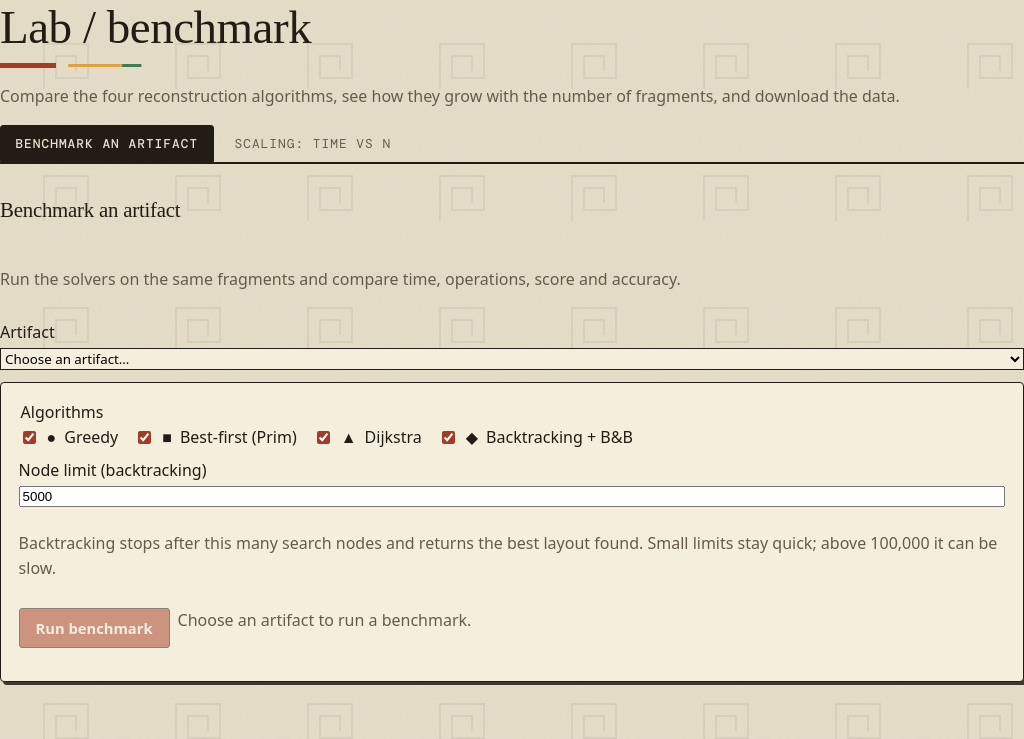
LabPage: benchmark › shows a partial failure and still lists the algorithms that worked
Select "Mughal tile panel (16 fragments)" in the dropdown labelled "Artifact": [512, 359] box [0,348,1023,370]
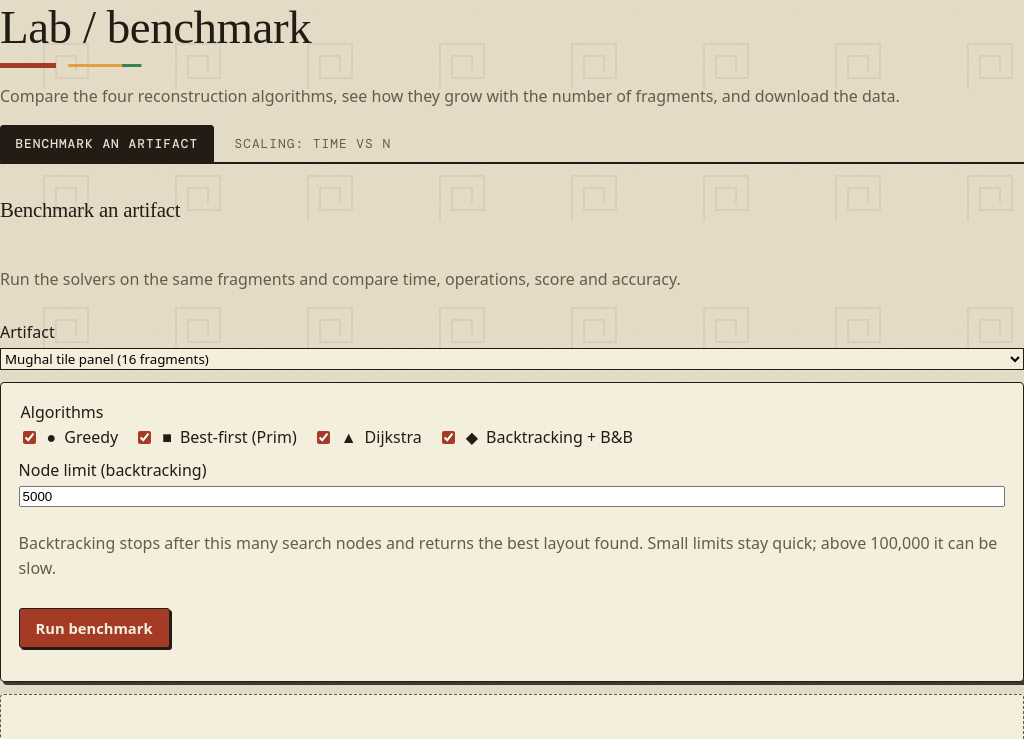
Click the button "Run benchmark": [94, 628] box [19,608,170,648]
(page scrolled)
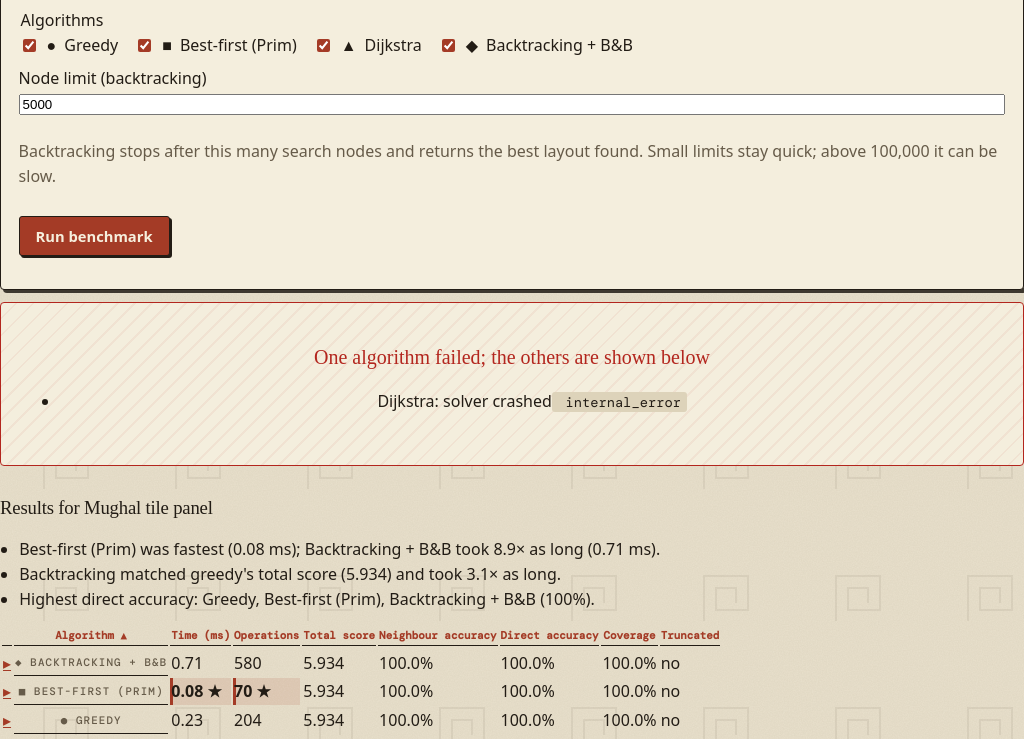
Now the message with test id "bench-failures" shows "One algorithm failed", box [314,346,481,368]
Now the message with test id "bench-failures" shows "Dijkstra: solver crashed", box [0,302,1023,466]
Now the number of rows is 4, box [2,626,720,646]; [2,650,720,676]; [2,678,720,705]; [2,707,720,734]
